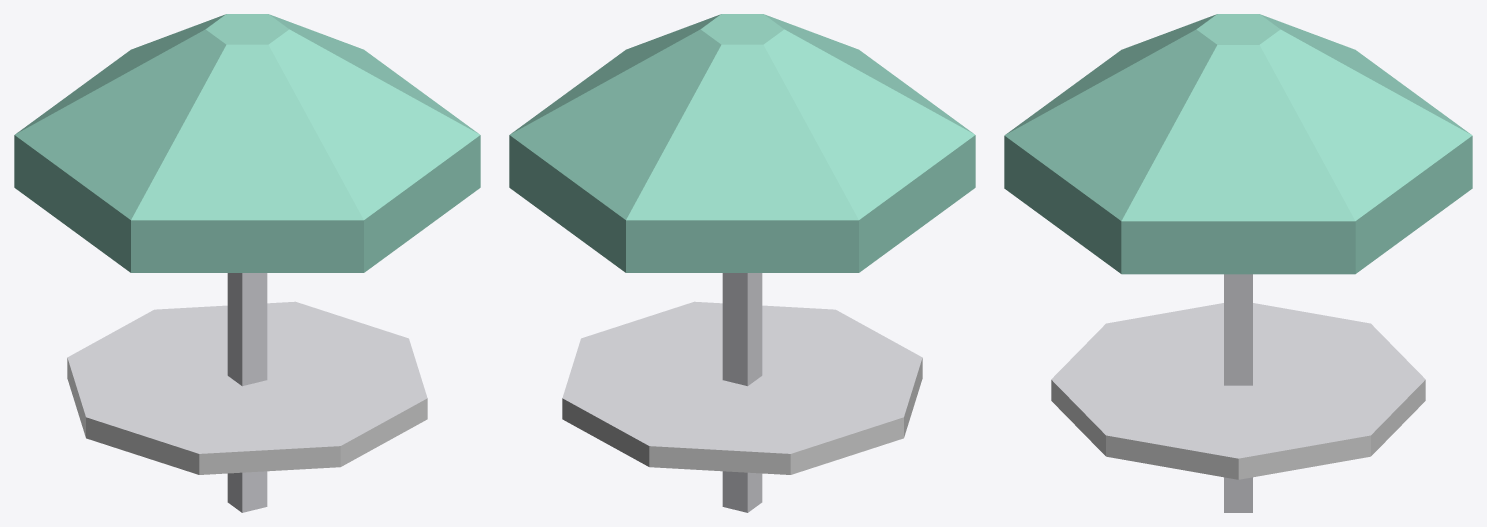
File: detail_umbrella.glb
The picture shows the model from 3 angles, left to right: view 1: azimuth 30°, elevation 25°; view 2: azimuth 150°, elevation 25°; view 3: azimuth 270°, elevation 25°; orthographic projection.
Visible parts, largest first — view 1: detail_umbrella; view 2: detail_umbrella; view 3: detail_umbrella.
Boxes of the visible parts, x1,y1,x2,y2 form: detail_umbrella: (14, 14, 480, 512); detail_umbrella: (509, 14, 975, 512); detail_umbrella: (1004, 14, 1472, 512).
Bounding box in the file's own units: 0.3464 × 0.45 × 0.4.
